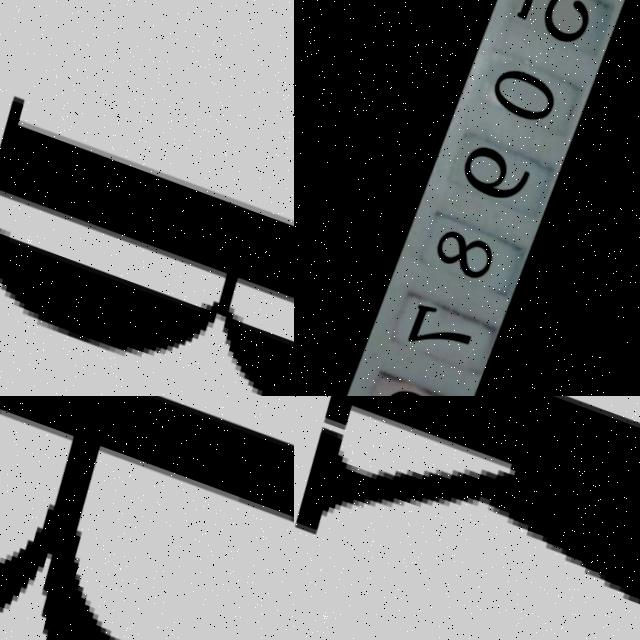0: (462, 45, 575, 135), (349, 367, 454, 396)
5: (489, 0, 612, 57)
7: (374, 284, 487, 373)
8: (404, 208, 509, 291)
9: (430, 124, 546, 216)
B: (0, 96, 294, 396)
K: (294, 396, 640, 640)
